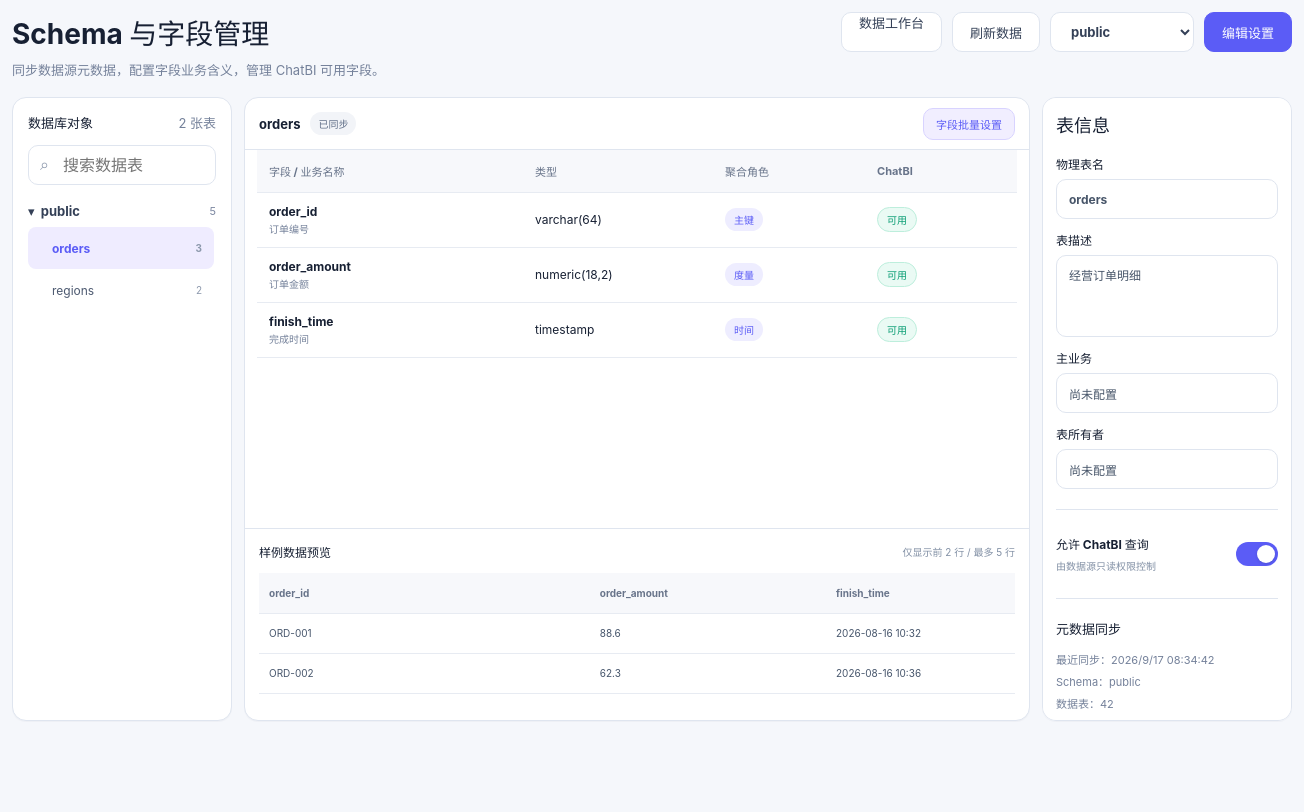
Test: 数据源高保真页面 › 展示真实 Schema、字段角色和样例值，并可切换 Schema
Expected: the heading "Schema 与字段管理" is shown, top-left (12, 17), bottom-right (269, 51)
Expected: the button "orders 3" is shown, top-left (28, 227), bottom-right (214, 269)
Type "reg" into the field named "搜索数据表" at (122, 165), box top-left (28, 145), bottom-right (216, 185)
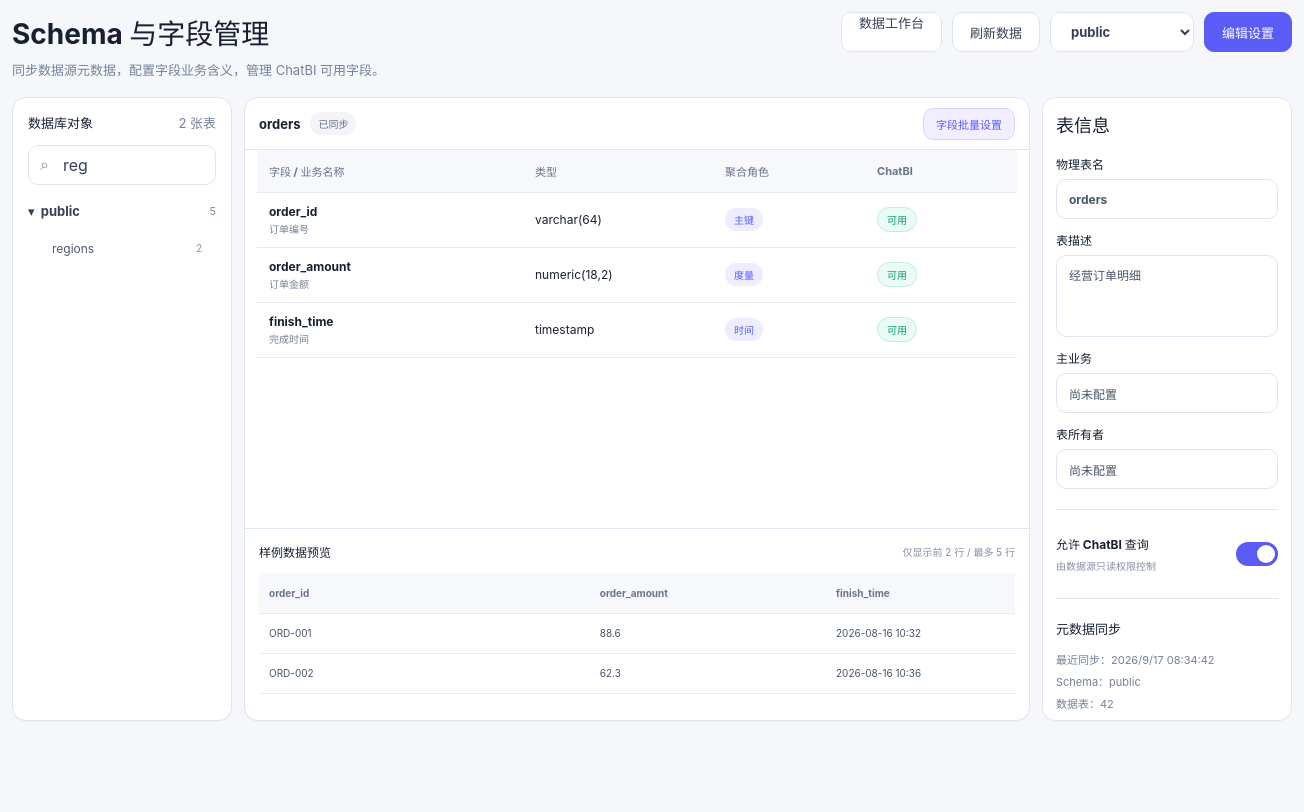
Expected: the button "regions 2" is shown, top-left (28, 227), bottom-right (214, 269)
Clear the field named "搜索数据表" at (122, 165), box top-left (28, 145), bottom-right (216, 185)
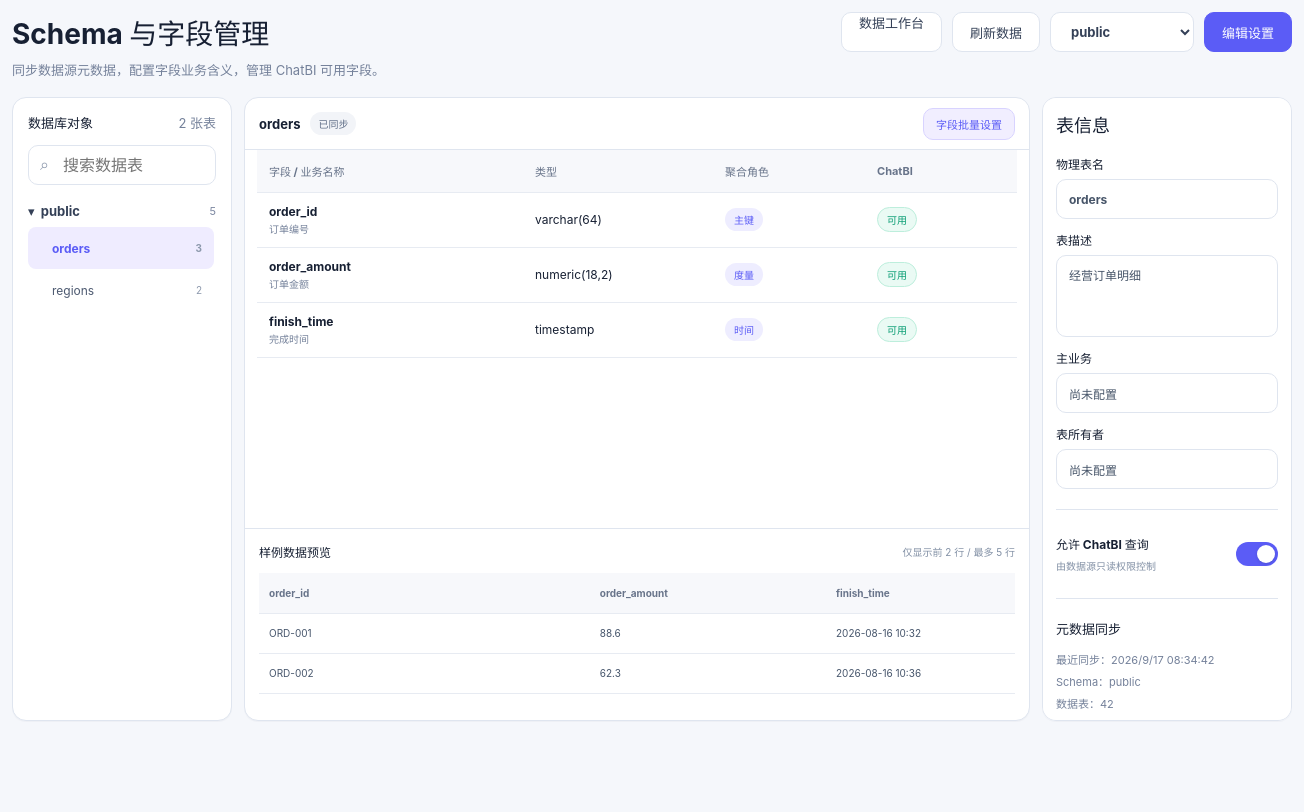
Select "finance" in the dropdown named "切换 Schema" at (1122, 32), box top-left (1050, 12), bottom-right (1194, 52)
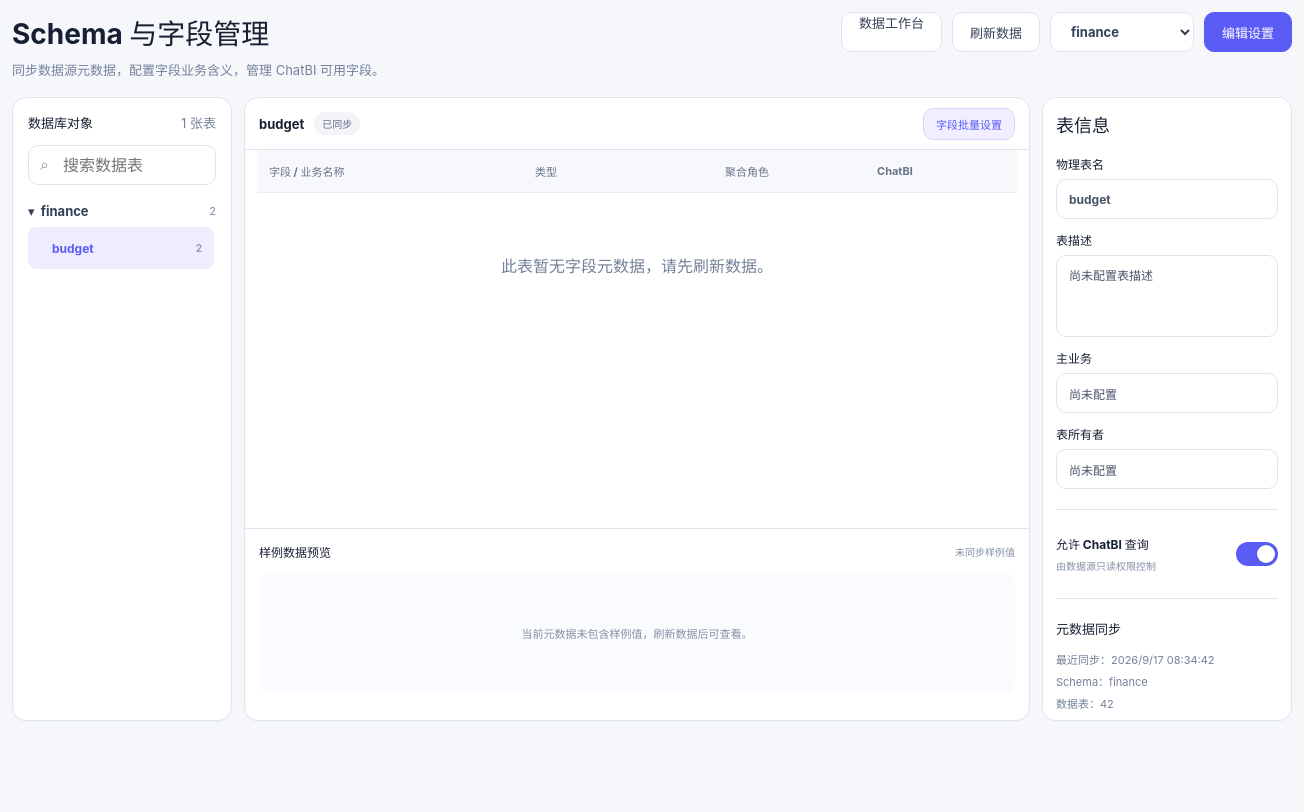
Expected: the button "budget 2" is shown, top-left (28, 227), bottom-right (214, 269)
